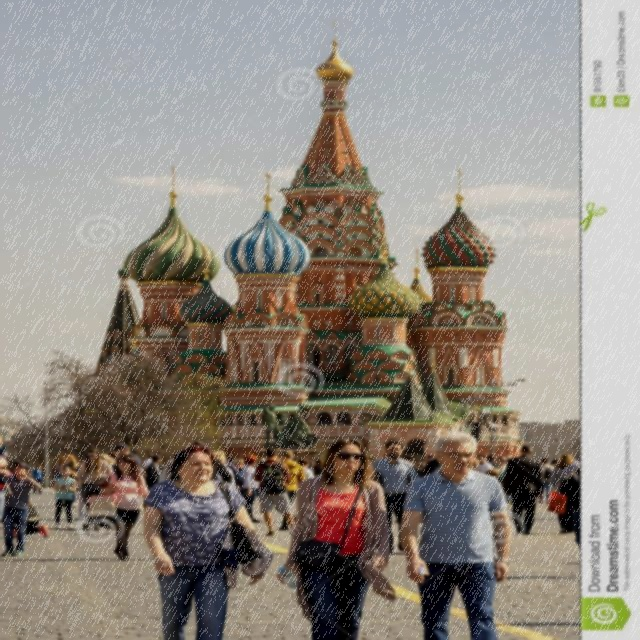pessoa: (274, 436, 398, 640), (142, 444, 268, 640), (398, 432, 514, 640), (85, 455, 152, 560), (369, 440, 421, 556), (501, 444, 545, 534), (253, 447, 296, 537), (548, 456, 580, 548), (260, 403, 320, 449), (76, 448, 114, 518), (192, 438, 246, 486), (548, 452, 578, 534), (276, 450, 306, 531), (238, 454, 264, 522), (53, 465, 77, 530), (400, 447, 441, 485), (210, 449, 246, 492), (55, 453, 79, 508), (154, 448, 184, 488), (23, 498, 50, 538), (111, 443, 142, 475), (538, 456, 556, 505), (145, 455, 165, 493), (144, 454, 162, 493), (463, 415, 483, 443), (296, 459, 316, 481), (493, 456, 508, 485), (292, 456, 316, 474), (30, 464, 44, 494), (100, 444, 118, 467), (474, 454, 494, 474), (56, 455, 72, 477), (312, 458, 325, 476), (256, 455, 284, 462), (484, 468, 502, 478), (470, 458, 482, 472), (486, 454, 497, 466), (62, 451, 76, 458), (58, 500, 68, 508), (504, 455, 512, 460)
